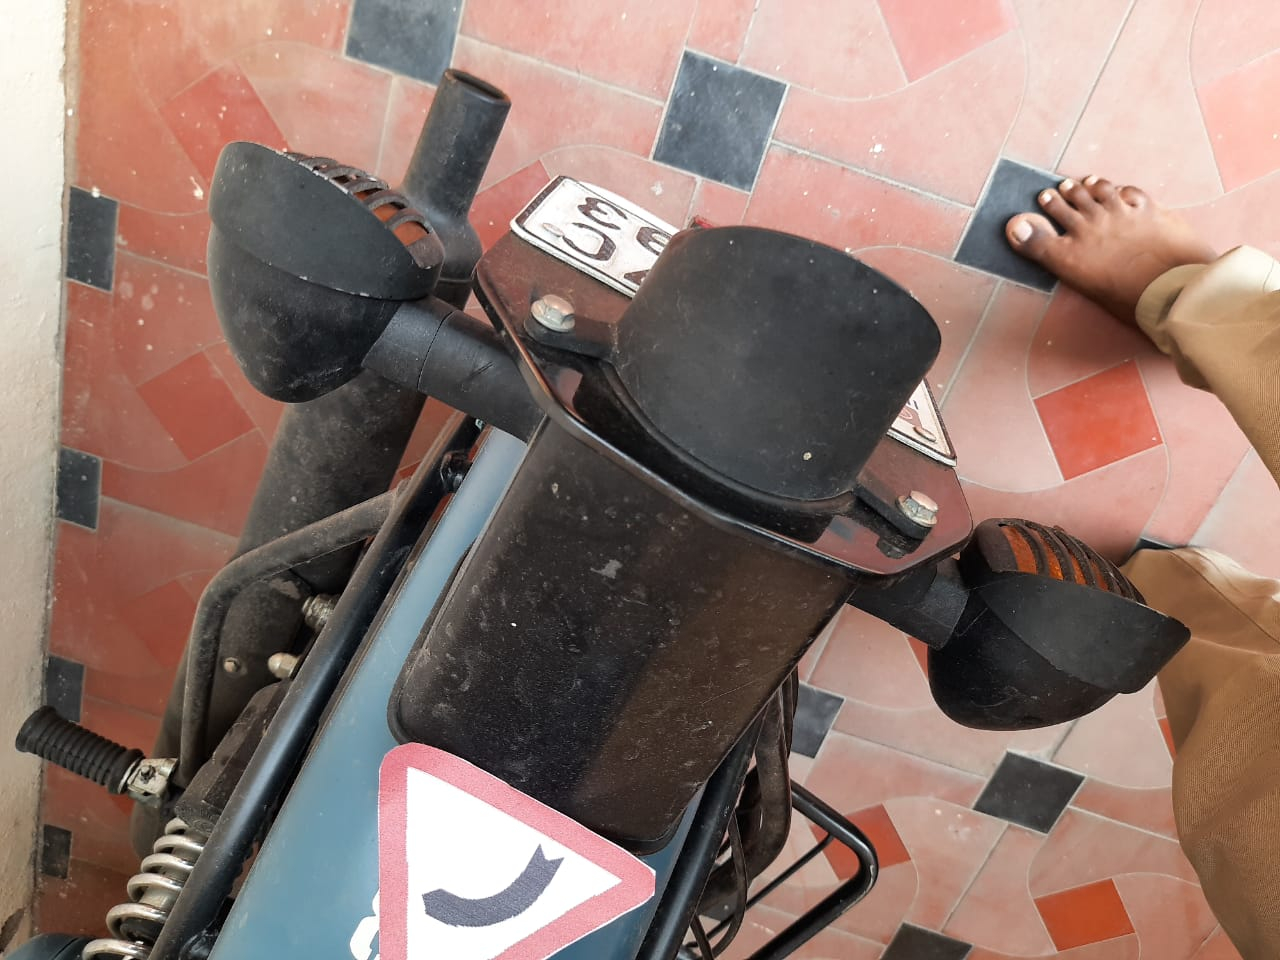RIGHT CURVE: (339, 724, 670, 960)
